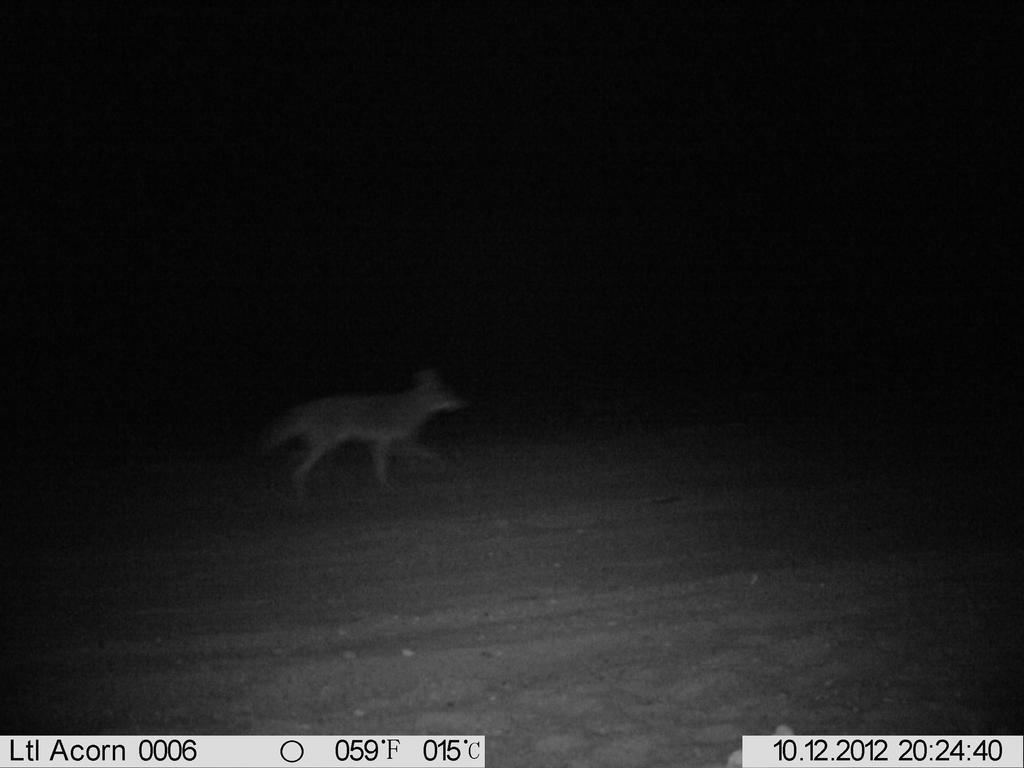coyote: (259, 368, 474, 506)
